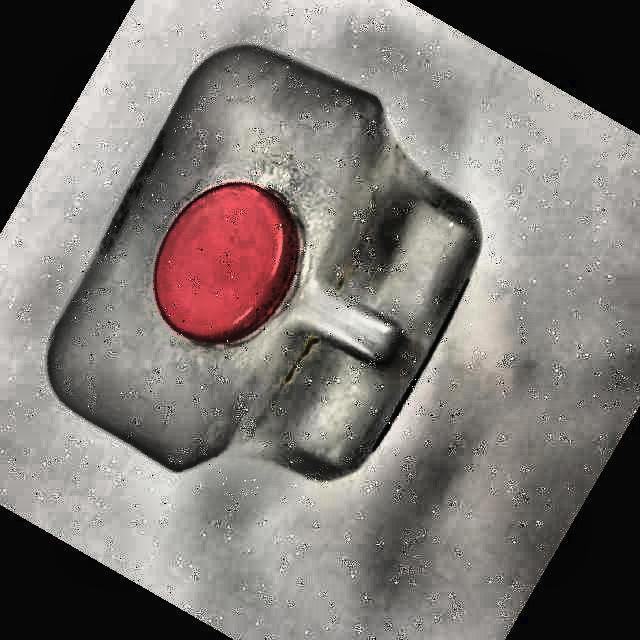plastic: (48, 45, 479, 478)
